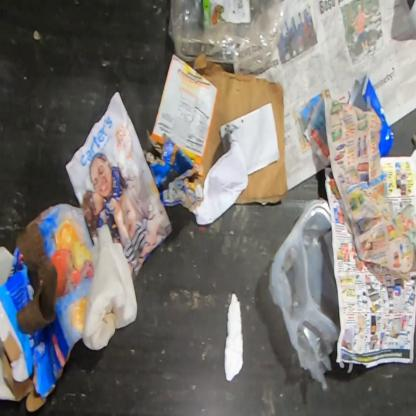cardboard: (0, 205, 95, 412), (186, 53, 288, 205), (151, 54, 217, 164), (144, 129, 204, 213)
rigid_plastic: (268, 196, 340, 390), (167, 0, 287, 73), (347, 74, 394, 157)
